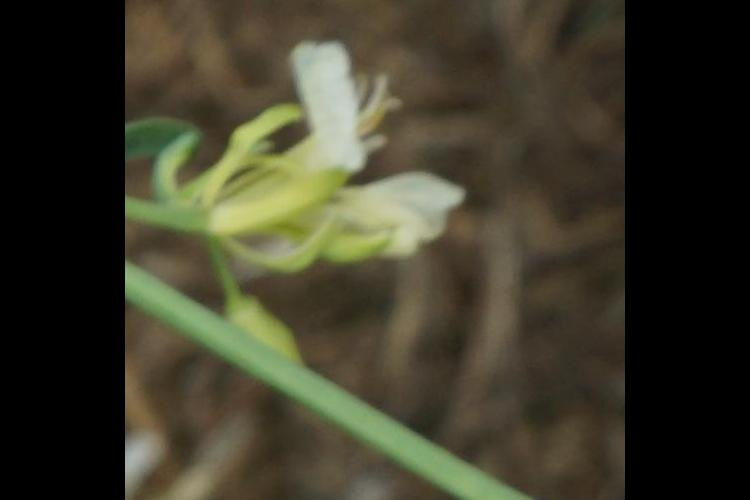white: (201, 15, 456, 307)
